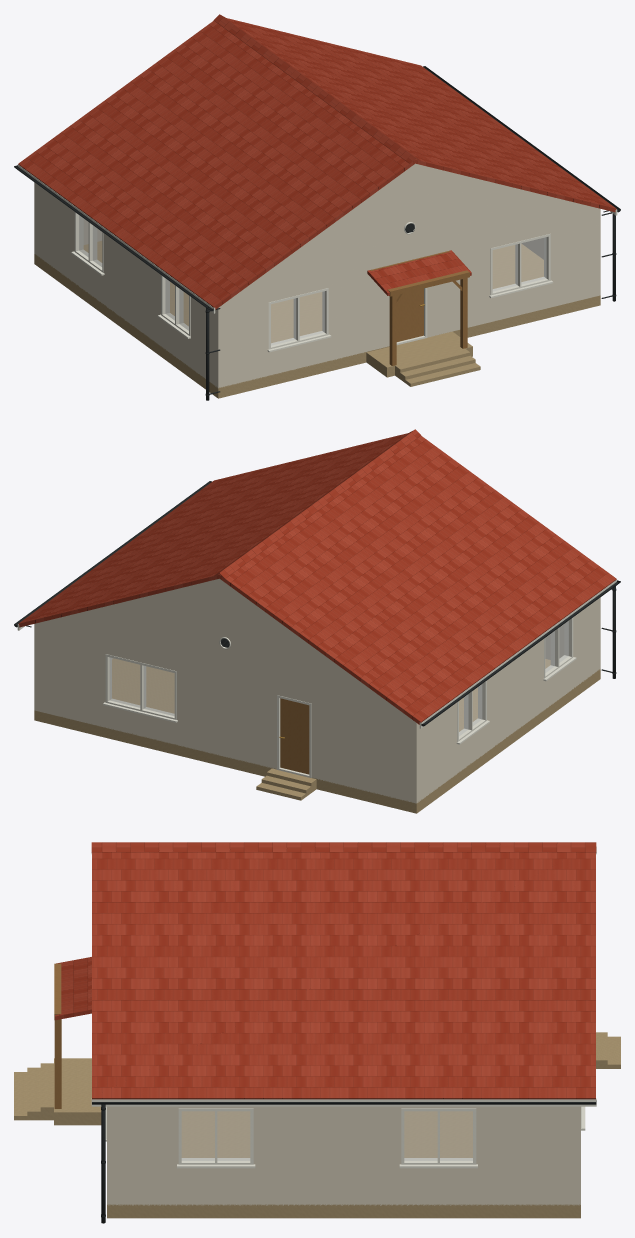
Rendered from bungalow-cabin.glb.
3 renders of one model, top to bottom at view 1: azimuth 30°, elevation 25°; view 2: azimuth 150°, elevation 25°; view 3: azimuth 270°, elevation 25°, orthographic. The views are drawn at different scales.
Parts seen in each view (by area): view 1: Main roof closed pitched roof slab, Main house hollow wall shell with actual openings, Grounded continuous foundation and floor, Main roof finite ridge cap, Main house Front right window finite glazing, Main house Front left window finite glazing, Porch closed pitched canopy, Porch grounded landing, Main house Front entrance closed finite door leaf, Main house Front left window finite seated frame, Main house Front right window finite seated frame, Main house left window 1 finite seated frame (+12 smaller); view 2: Main roof closed pitched roof slab, Main house hollow wall shell with actual openings, Grounded continuous foundation and floor, Main house Rear picture window finite glazing, Main roof finite ridge cap, Main house Rear garden door closed finite door leaf, Main house Rear picture window finite seated frame, Main house left window 0 finite seated frame, Main house left window 1 finite seated frame, Eaves -1 open finite gutter with outlet, Main house Rear garden door finite seated frame, Main house left window 0 finite glazing (+3 smaller); view 3: Main roof closed pitched roof slab, Main house hollow wall shell with actual openings, Grounded continuous foundation and floor, Main roof finite ridge cap, Main house right window 1 finite glazing, Main house right window 0 finite glazing, Main roof seated eave fascia 1, Porch grounded landing, Porch closed pitched canopy, Eaves 1 open finite gutter with outlet, Main house right window 0 finite seated frame, Main house right window 1 finite seated frame (+5 smaller).
Boxes of the visible parts, bbox=[...] form: Main roof closed pitched roof slab: bbox=[18, 18, 616, 309]; Main house hollow wall shell with actual openings: bbox=[34, 163, 600, 388]; Grounded continuous foundation and floor: bbox=[34, 223, 600, 398]; Main roof finite ridge cap: bbox=[213, 14, 421, 164]; Main house Front right window finite glazing: bbox=[493, 237, 546, 291]; Main house Front left window finite glazing: bbox=[271, 291, 324, 345]; Porch closed pitched canopy: bbox=[367, 250, 471, 295]; Porch grounded landing: bbox=[366, 331, 472, 377]; Main house Front entrance closed finite door leaf: bbox=[396, 288, 423, 341]; Main house Front left window finite seated frame: bbox=[268, 288, 328, 349]; Main house Front right window finite seated frame: bbox=[490, 233, 550, 295]; Main house left window 1 finite seated frame: bbox=[74, 212, 103, 272]; Main roof closed pitched roof slab: bbox=[18, 433, 616, 724]; Main house hollow wall shell with actual openings: bbox=[34, 578, 600, 803]; Grounded continuous foundation and floor: bbox=[34, 658, 600, 813]; Main house Rear picture window finite glazing: bbox=[110, 657, 174, 715]; Main roof finite ridge cap: bbox=[213, 429, 421, 579]; Main house Rear garden door closed finite door leaf: bbox=[280, 698, 309, 774]; Main house Rear picture window finite seated frame: bbox=[105, 654, 176, 719]; Main house left window 0 finite seated frame: bbox=[544, 617, 573, 678]; Main house left window 1 finite seated frame: bbox=[457, 681, 486, 741]; Eaves -1 open finite gutter with outlet: bbox=[423, 581, 620, 725]; Main house Rear garden door finite seated frame: bbox=[277, 695, 311, 777]; Main house left window 0 finite glazing: bbox=[545, 621, 568, 672]; Main roof closed pitched roof slab: bbox=[92, 852, 595, 1099]; Main house hollow wall shell with actual openings: bbox=[107, 1106, 580, 1205]; Grounded continuous foundation and floor: bbox=[107, 1111, 580, 1218]; Main roof finite ridge cap: bbox=[91, 842, 596, 852]; Main house right window 1 finite glazing: bbox=[404, 1111, 472, 1160]; Main house right window 0 finite glazing: bbox=[182, 1111, 249, 1160]; Main roof seated eave fascia 1: bbox=[91, 1098, 596, 1106]; Porch grounded landing: bbox=[54, 1058, 101, 1125]; Porch closed pitched canopy: bbox=[55, 957, 91, 1020]; Eaves 1 open finite gutter with outlet: bbox=[92, 1102, 595, 1104]; Main house right window 0 finite seated frame: bbox=[178, 1108, 253, 1164]; Main house right window 1 finite seated frame: bbox=[401, 1108, 476, 1164].
Size of the model in its own units: 12.9 by 5.96 by 12.81.
8 materials, 8 textured.
